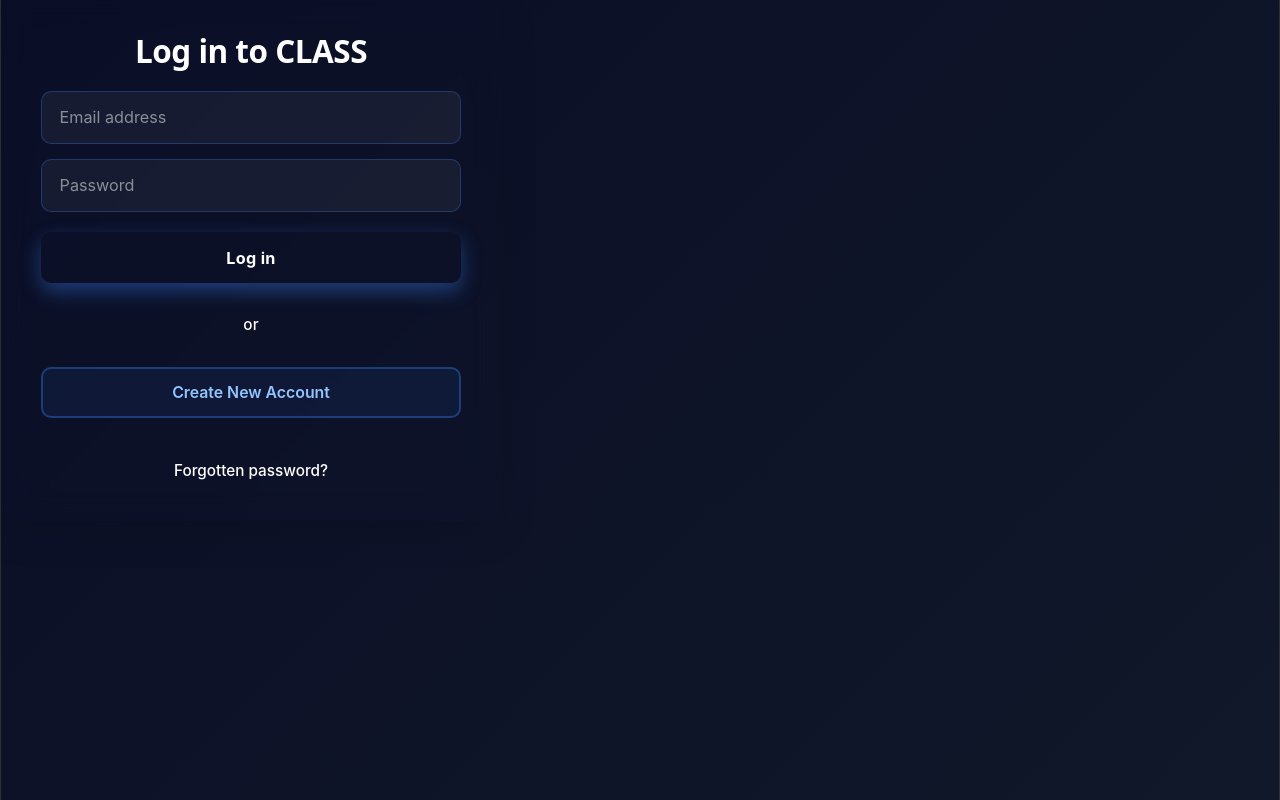
Test: LoginForm Component › should display error when fields are empty
Click the button "Log in" at (251, 258), box 41,232 -> 461,283
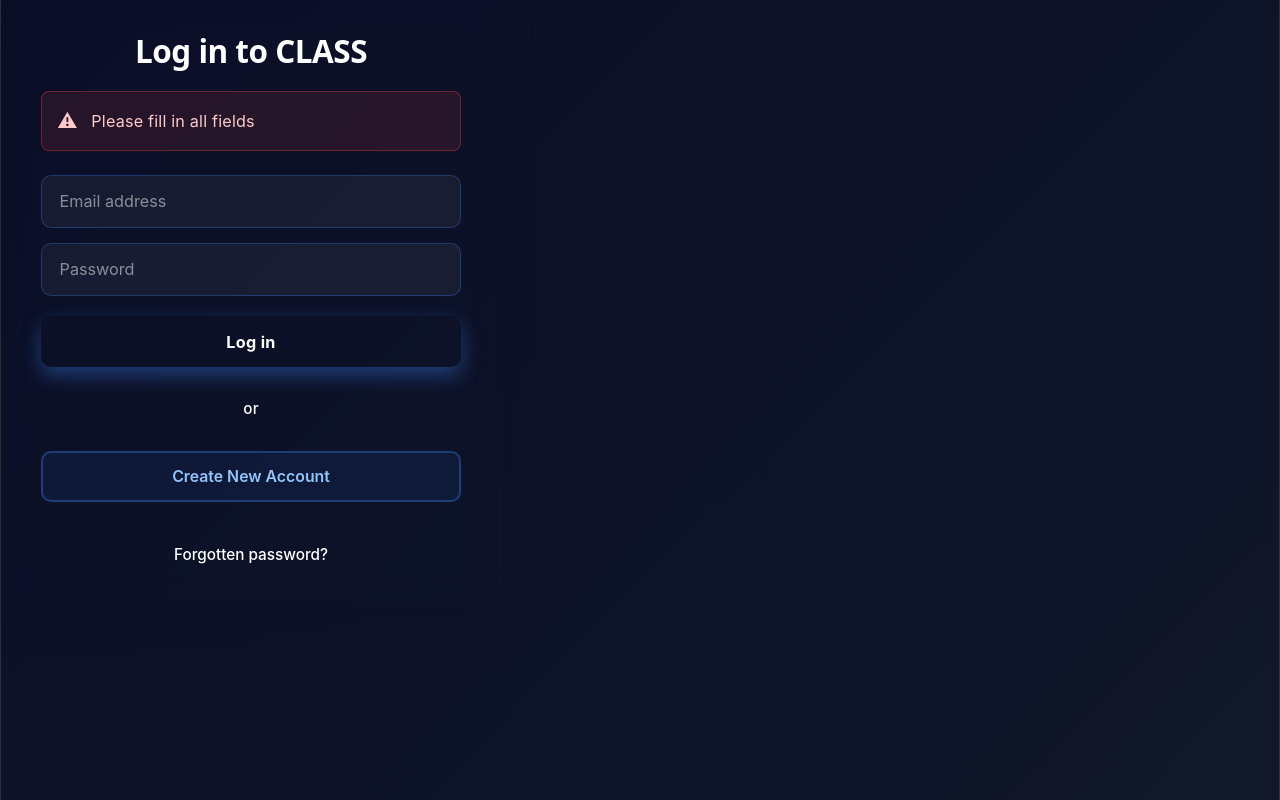
Expected: the text "Please fill in all fields" is shown, 41,91 -> 461,151
